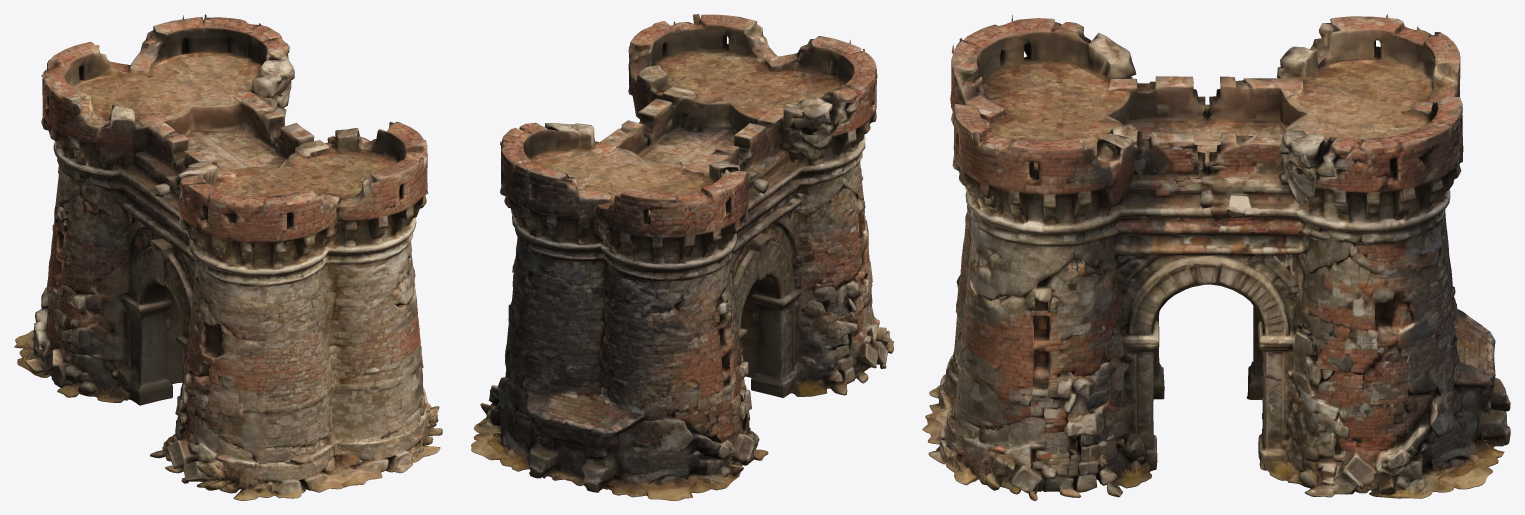
The model's file is fort_ruins_gate.glb.
The picture shows the model from 3 angles, left to right: view 1: azimuth 30°, elevation 25°; view 2: azimuth 150°, elevation 25°; view 3: azimuth 270°, elevation 25°; orthographic projection. The views are drawn at different scales.
Parts seen in each view (by area): view 1: tripo_node_5e12e821-a86a-4b02-b221-dc2e227a6602; view 2: tripo_node_5e12e821-a86a-4b02-b221-dc2e227a6602; view 3: tripo_node_5e12e821-a86a-4b02-b221-dc2e227a6602.
Boxes of the visible parts, x1,y1,x2,y2 form: tripo_node_5e12e821-a86a-4b02-b221-dc2e227a6602: [14, 14, 442, 500]; tripo_node_5e12e821-a86a-4b02-b221-dc2e227a6602: [471, 14, 893, 500]; tripo_node_5e12e821-a86a-4b02-b221-dc2e227a6602: [922, 14, 1510, 500].
Size of the model in its own units: 0.6186 by 0.6545 by 1.
1 material, 1 textured.
